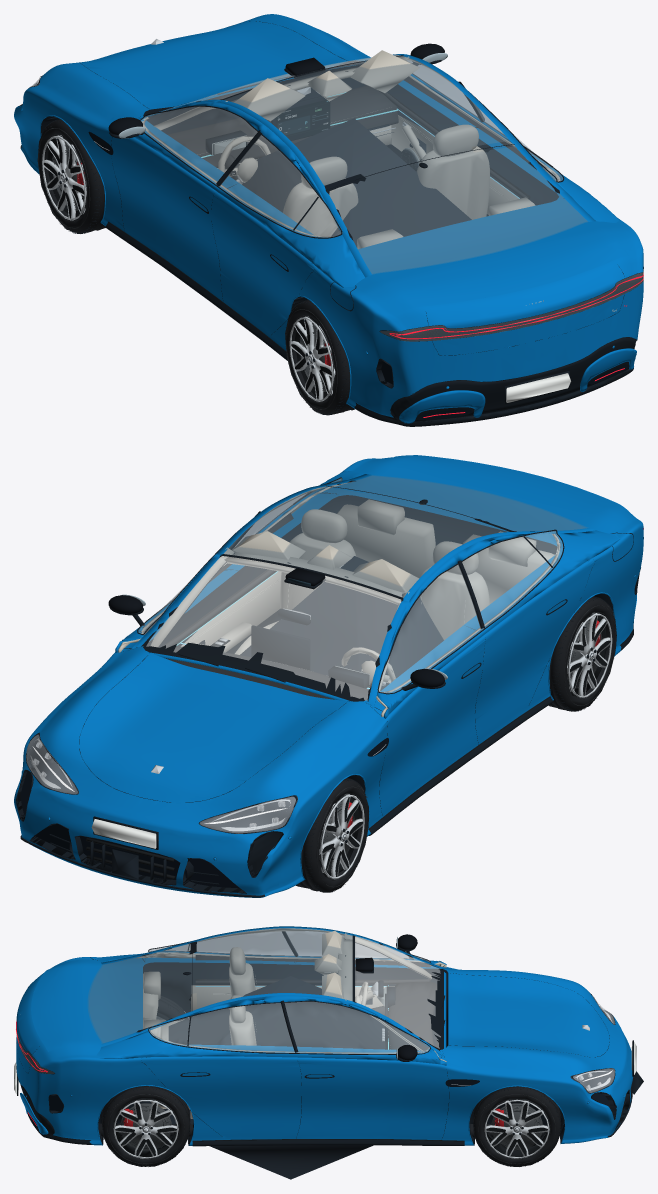
3 views of the same model, one above another, from view 1: azimuth 30°, elevation 25°; view 2: azimuth 150°, elevation 25°; view 3: azimuth 270°, elevation 25° (orthographic). The views are drawn at different scales.
Visible parts, largest first — view 1: geometry:body, geometry:interior, geometry:wheel-front-left, geometry:wheel-rear-left, geometry:spoiler, geometry:display-center, geometry:steering; view 2: geometry:body, geometry:interior, geometry:wheel-rear-left, geometry:wheel-front-left, geometry:spoiler, geometry:steering; view 3: geometry:body, geometry:interior, geometry:wheel-rear-right, geometry:wheel-front-right, geometry:spoiler, geometry:wheel-rear-left.
Part boxes in pixels (x1=…): geometry:body: x1=14, y1=14, x2=643, y2=426; geometry:interior: x1=142, y1=50, x2=560, y2=248; geometry:wheel-front-left: x1=37, y1=119, x2=105, y2=233; geometry:wheel-rear-left: x1=285, y1=300, x2=354, y2=415; geometry:spoiler: x1=394, y1=242, x2=628, y2=310; geometry:display-center: x1=275, y1=100, x2=330, y2=140; geometry:steering: x1=218, y1=136, x2=270, y2=184; geometry:body: x1=14, y1=457, x2=643, y2=897; geometry:interior: x1=118, y1=481, x2=560, y2=716; geometry:wheel-rear-left: x1=548, y1=596, x2=616, y2=711; geometry:wheel-front-left: x1=296, y1=778, x2=368, y2=892; geometry:spoiler: x1=395, y1=455, x2=628, y2=511; geometry:steering: x1=341, y1=647, x2=395, y2=685; geometry:body: x1=14, y1=926, x2=643, y2=1146; geometry:interior: x1=129, y1=928, x2=446, y2=1179; geometry:wheel-rear-right: x1=101, y1=1086, x2=190, y2=1166; geometry:wheel-front-right: x1=473, y1=1086, x2=561, y2=1166; geometry:spoiler: x1=31, y1=965, x2=62, y2=1051; geometry:wheel-rear-left: x1=156, y1=996, x2=187, y2=1020.
Size of the model in its own units: 2.34 by 2.03 by 5.09.
Materials: 33 (2 with a texture image).
